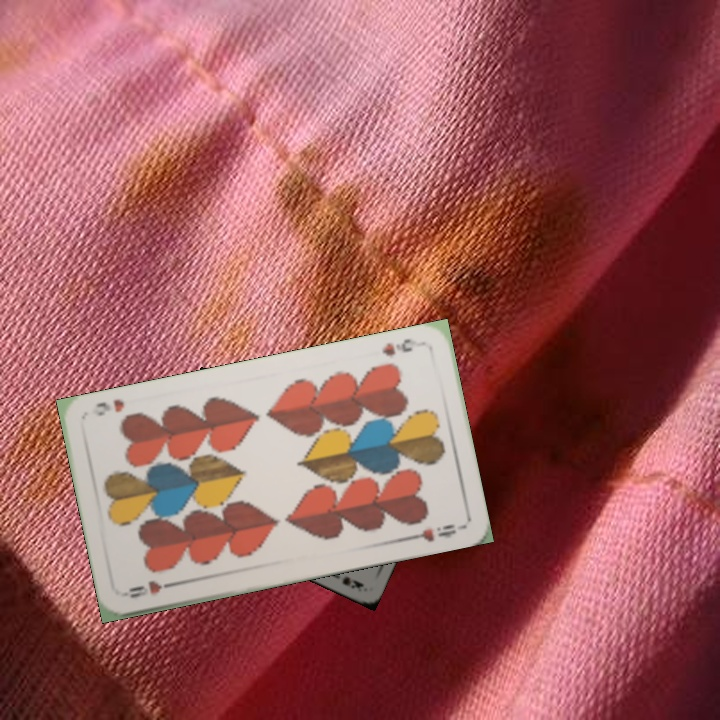H9: (124, 576, 180, 601), (378, 334, 426, 359)
